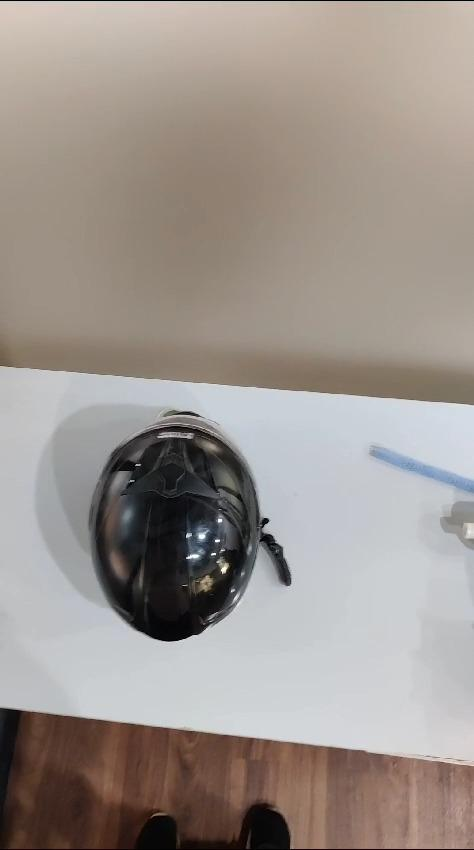Helmet: (76, 402, 266, 657)
